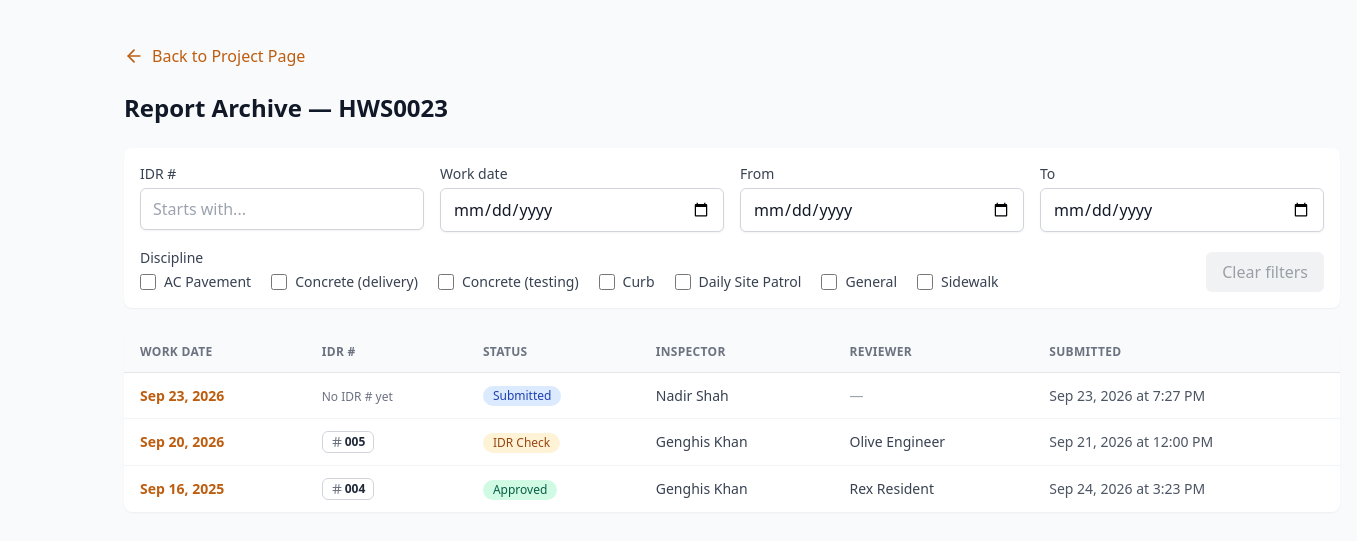
it: ReportArchivePage — filters › typing an IDR # puts it in the URL after the debounce and asks the backend again
Expected: the button "Sep 23, 2026" is shown, [140, 386, 224, 406]
In the search field labelled "IDR #": (282, 209) [140, 188, 424, 230], type "sw"
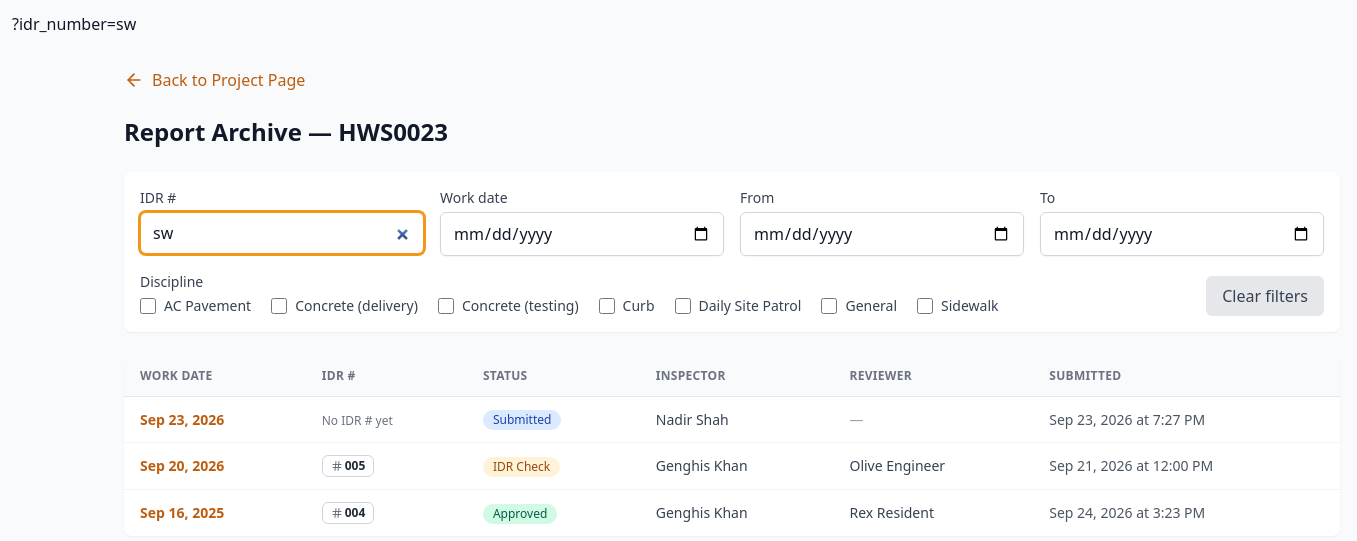
Now the text with test id "archive-url" reads "?idr_number=sw", box [12, 13, 136, 35]
